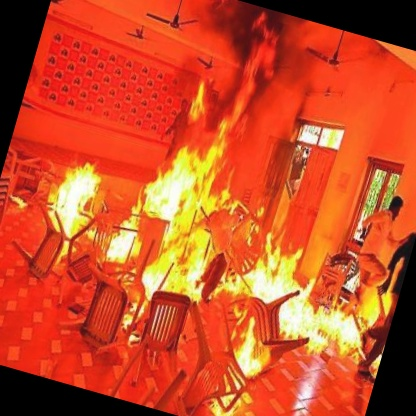fire: (11, 78, 416, 396)
